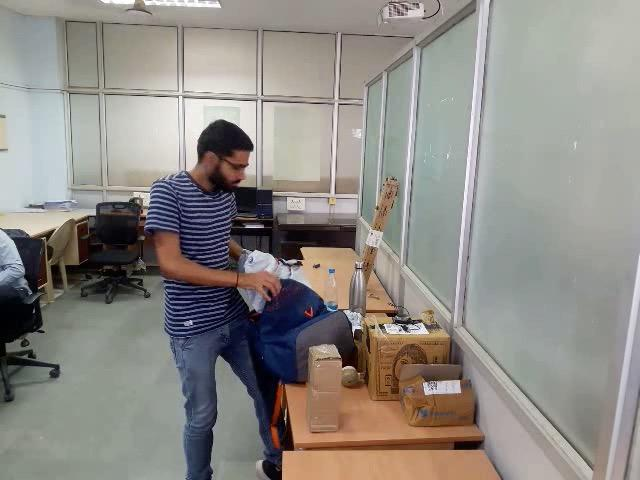shoplifting: (234, 242, 356, 383)
